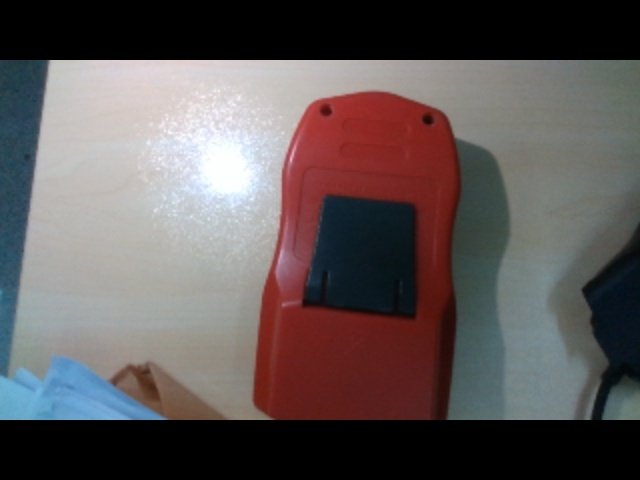Multimeter: (252, 88, 460, 420)
Screw holes: (420, 111, 436, 128), (318, 103, 334, 117)
